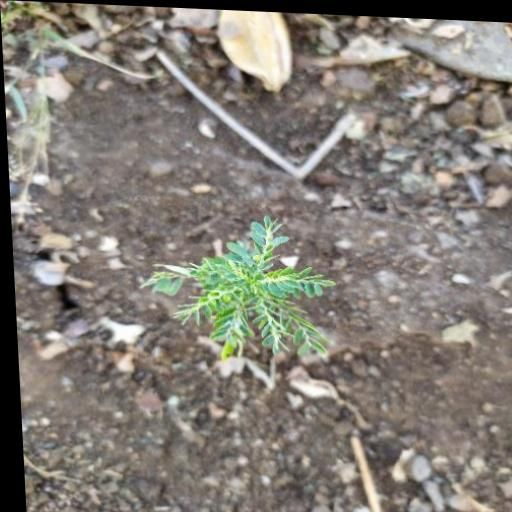weed: (132, 199, 341, 373)
